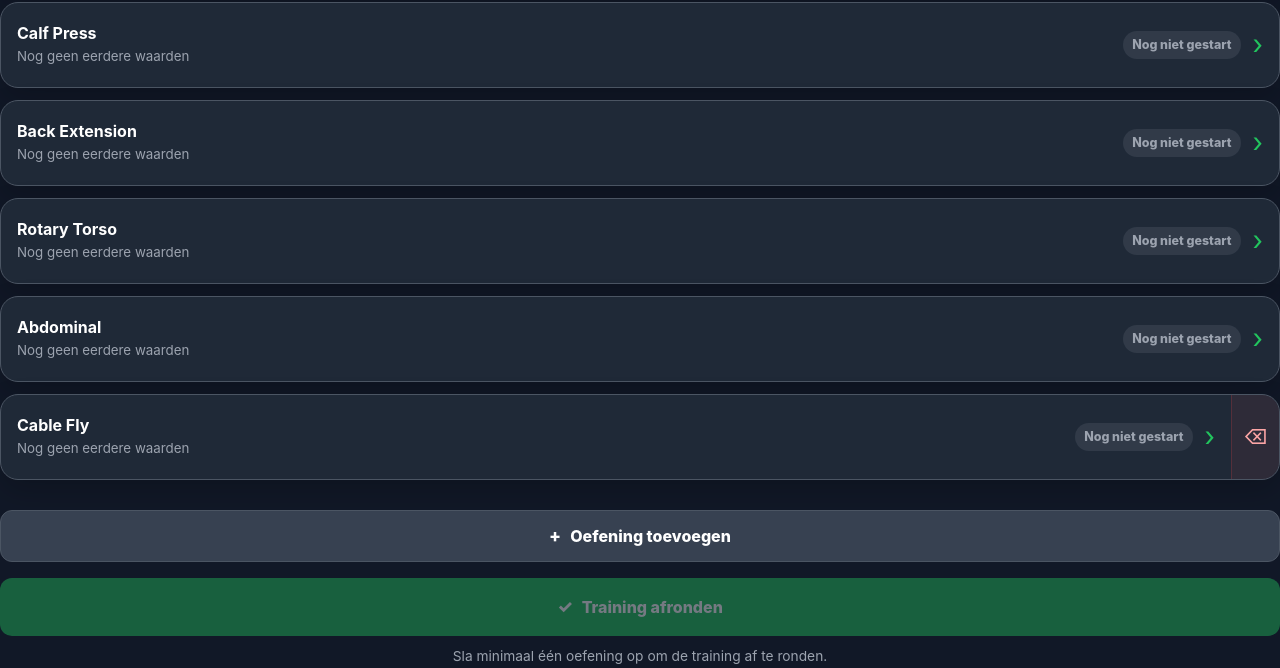
it: actieve oefening tijdens autosave › verwijdert alleen een aangepaste oefening na bevestiging en toont geen verwijderknop bij vaste oefeningen
(page scrolled)
Click the button named "Cable Fly verwijderen" at (1255, 437), box [1231, 395, 1279, 479]
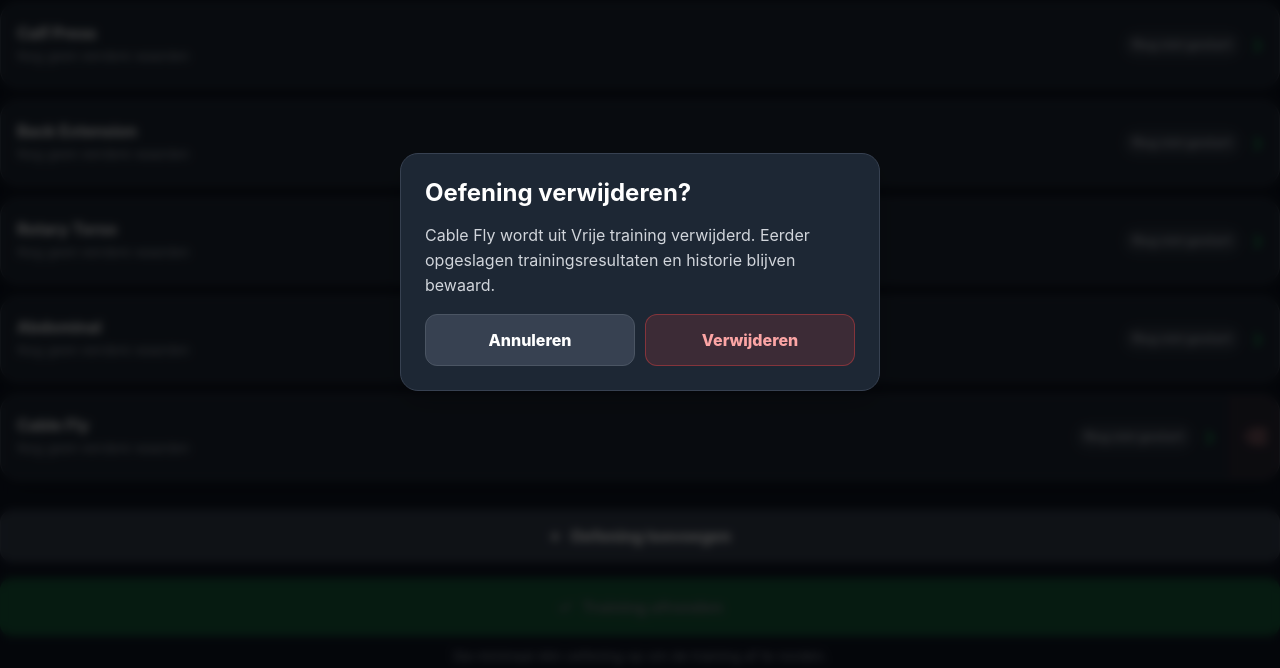
Expected: the heading "Oefening verwijderen?" is shown, [425, 178, 691, 207]
Expected: the text "Eerder opgeslagen trainingsresultaten en historie blijven bewaard" is shown, [425, 225, 810, 295]
Click the button "Verwijderen" at (750, 340), box [645, 314, 855, 366]
(page scrolled)
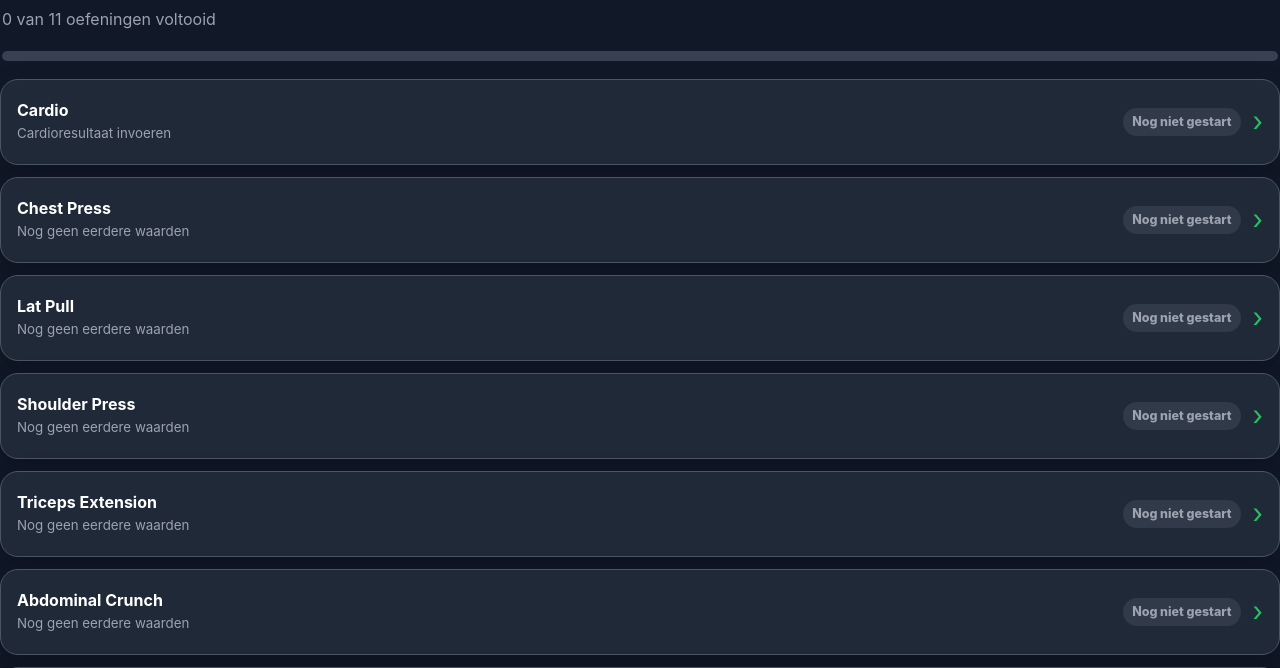
Expected: the button "Chest Press Nog geen eerdere waarden Nog niet gestart ›" is shown, [1, 178, 1279, 262]
Expected: the button "Cable Fly" is gone
